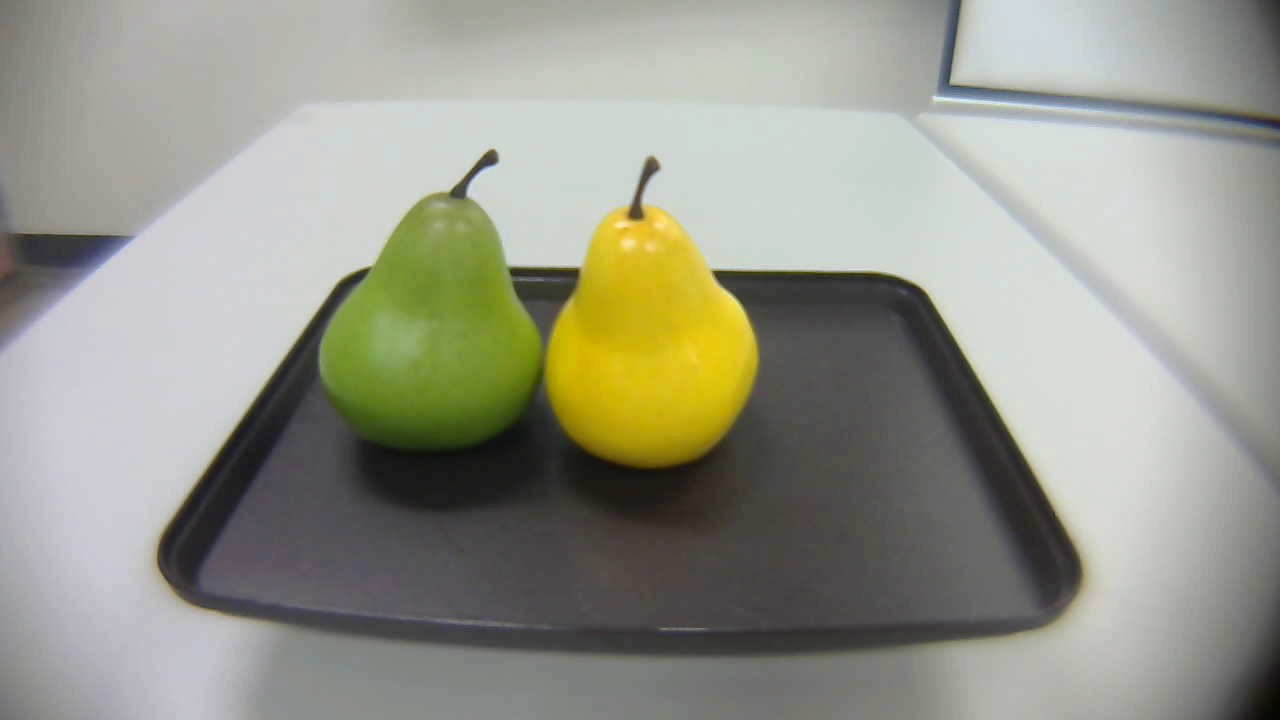green pear: (310, 143, 543, 458)
yellow pear: (538, 155, 764, 480)
